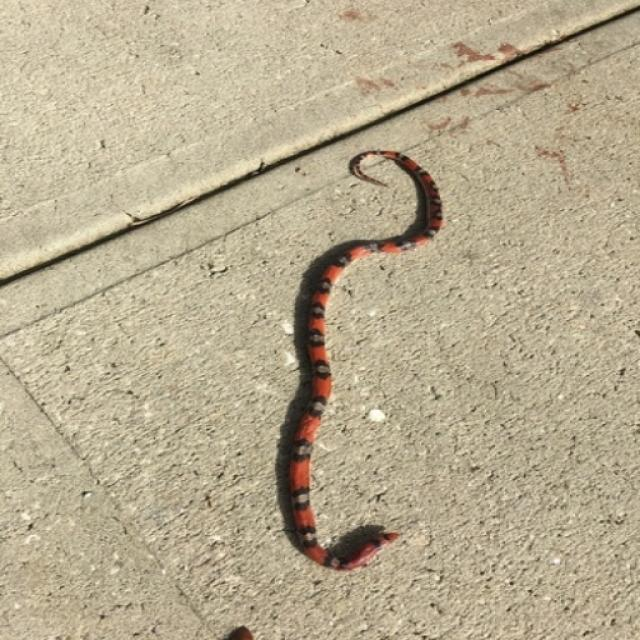snake: (271, 128, 472, 578)
